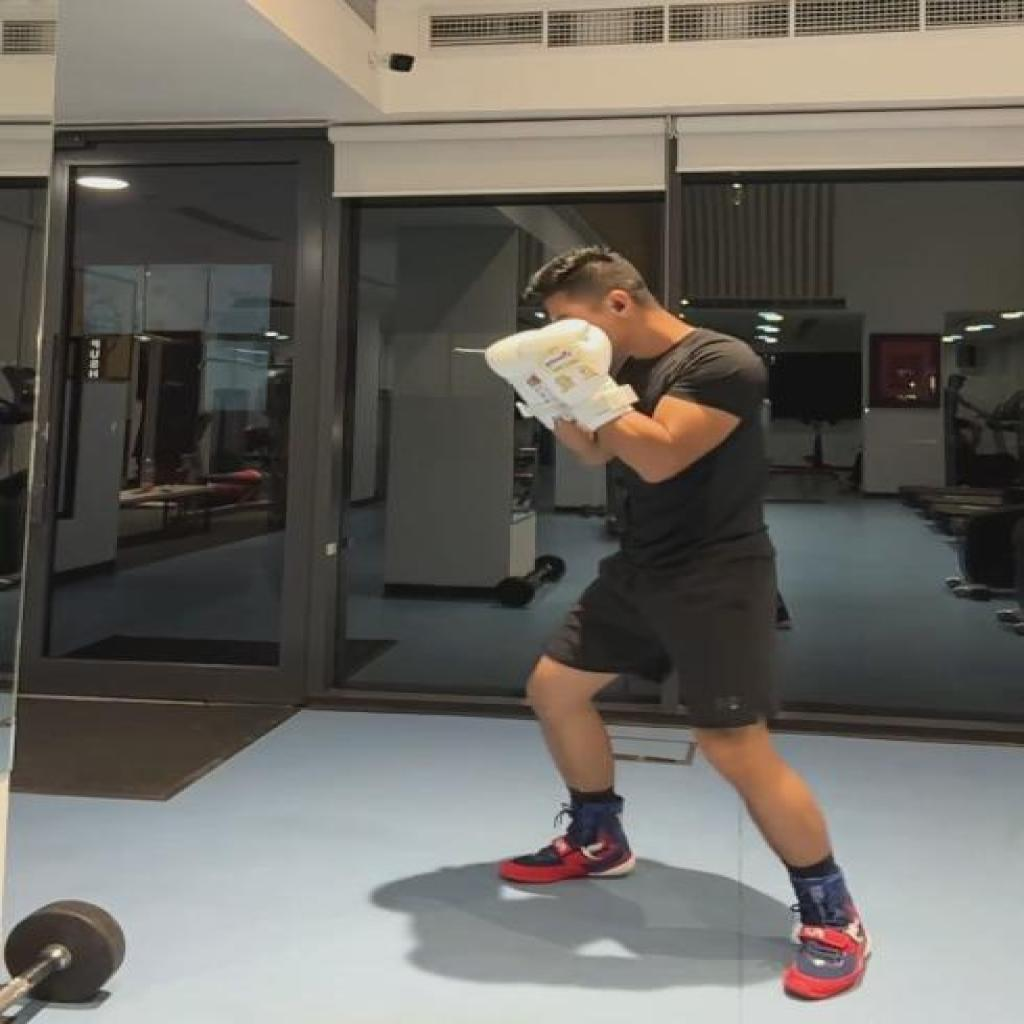no punch: (487, 243, 873, 1000)
